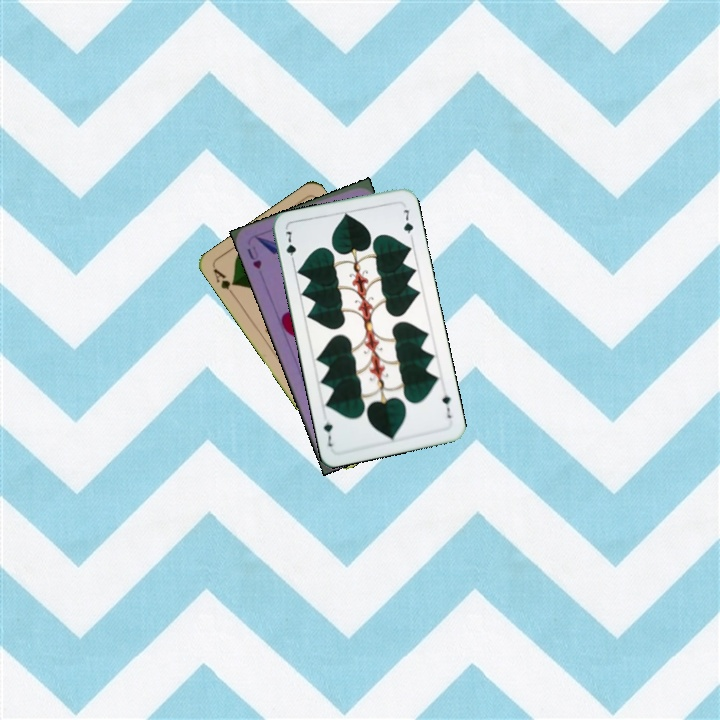G7: (281, 227, 299, 266), (438, 390, 454, 421)
GA: (209, 264, 239, 300)
HU: (243, 242, 264, 271)
